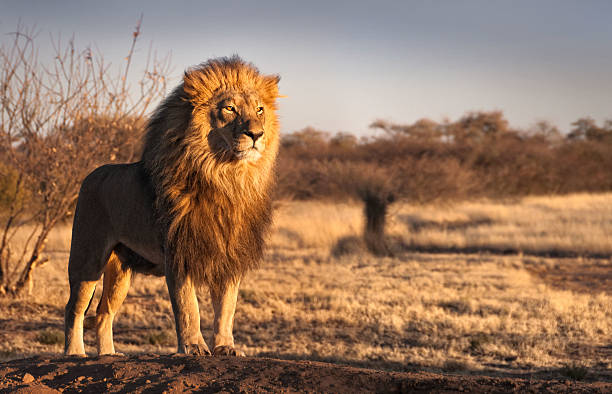lion: (139, 44, 308, 297)
